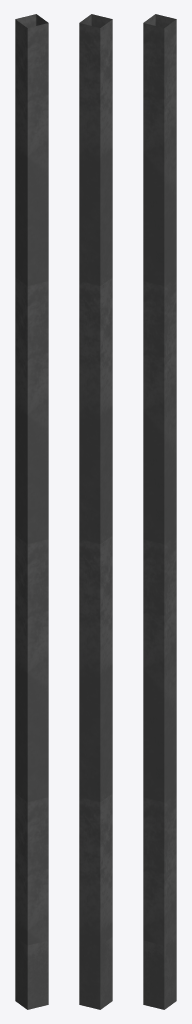
The model's file is pole_roof_250cm.obj.
3 renders of one model, left to right at view 1: azimuth 30°, elevation 25°; view 2: azimuth 150°, elevation 25°; view 3: azimuth 330°, elevation 25°, orthographic.
Parts seen in each view (by area): view 1: pole_r250, pole_end_r250; view 2: pole_r250, pole_end_r250; view 3: pole_r250, pole_end_r250.
Boxes of the visible parts, box(x1,y1,x2,y2) form: pole_r250: box(15, 14, 48, 945); pole_end_r250: box(15, 937, 48, 1009); pole_r250: box(79, 14, 112, 945); pole_end_r250: box(79, 937, 112, 1009); pole_r250: box(143, 14, 176, 945); pole_end_r250: box(143, 937, 176, 1009).
Size of the model in its own units: 0.0604 by 2.68 by 0.0604.
Materials: 1 (1 with a texture image).
